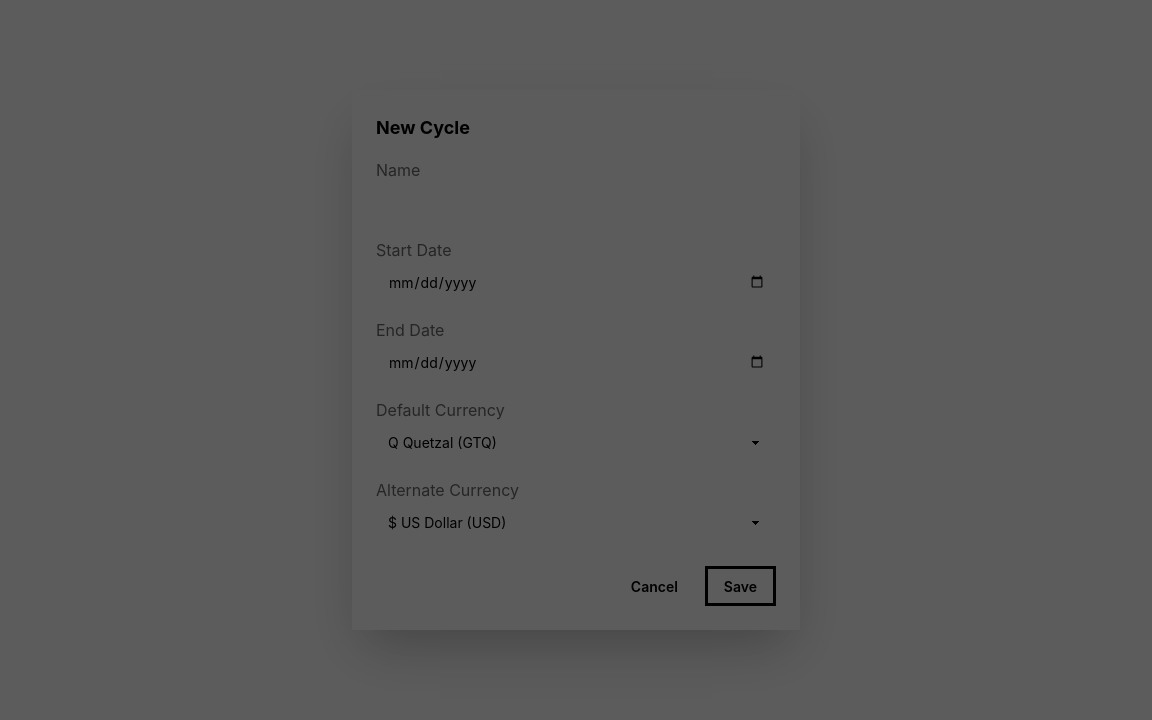
CycleForm — REQ-CYC-FORM-1: exchange rate input visibility › shows exchange rate input when alternate currency is selected
Select "$ US Dollar (USD)" in the dropdown labelled "Alternate Currency" at {"x": 576, "y": 522}, box [376,502,776,542]
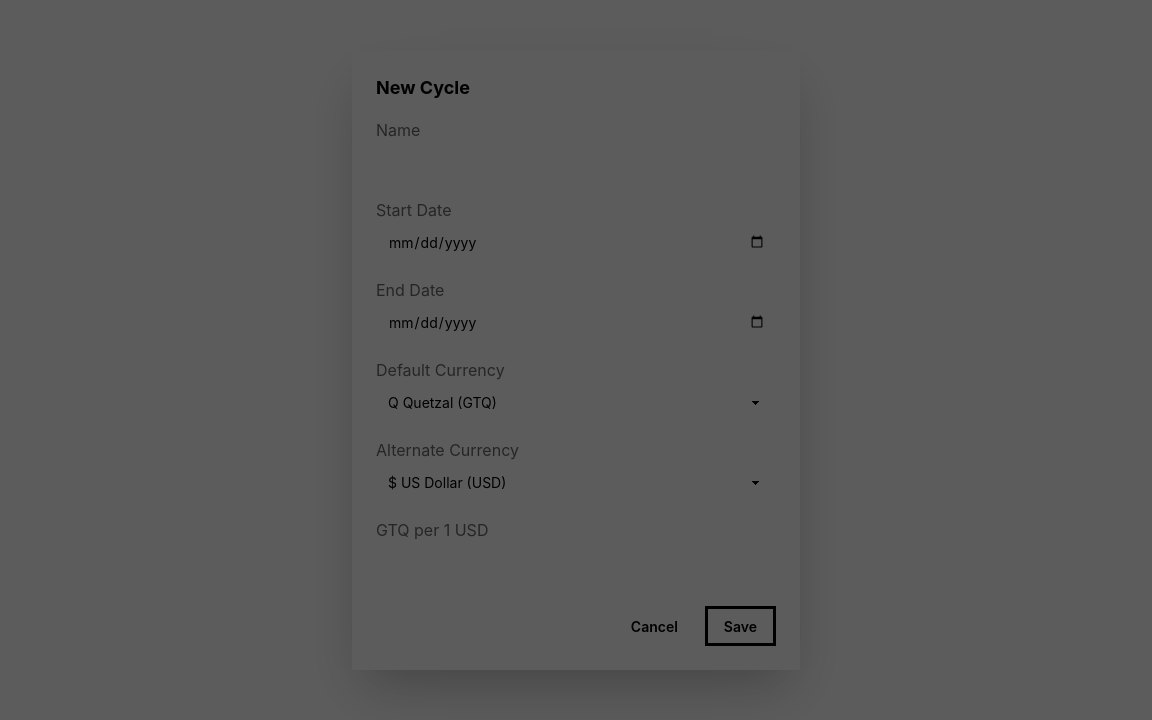
Now the text "GTQ per 1 USD" is shown, box [376,518,488,542]
